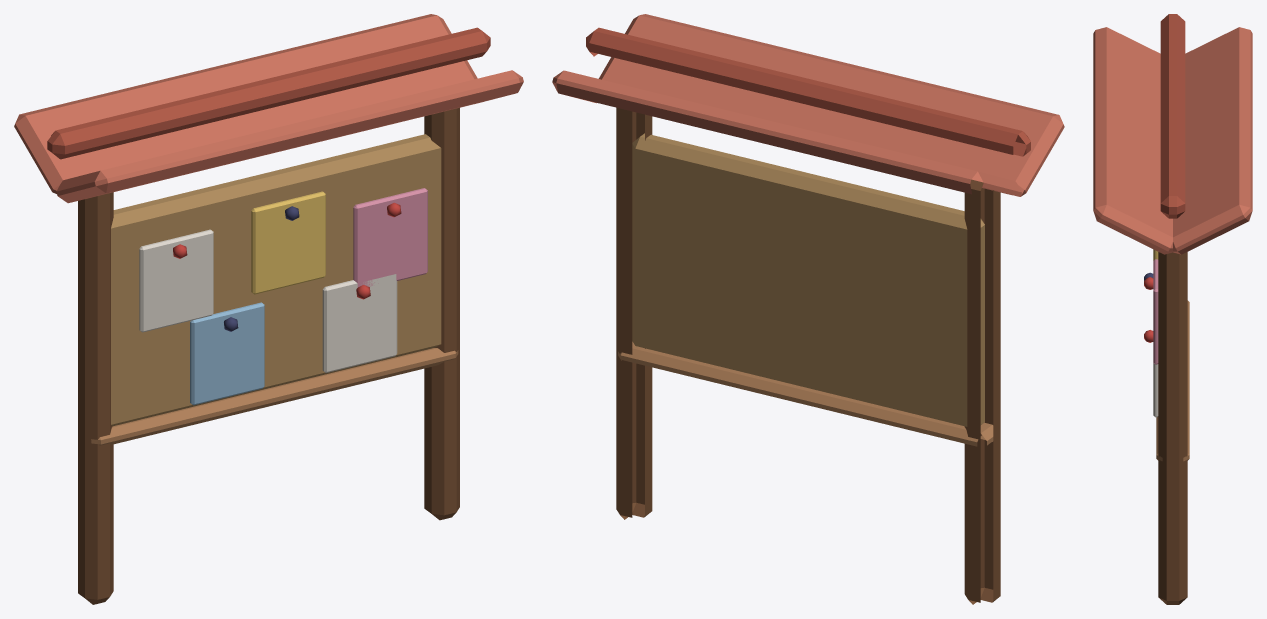
The model's file is ac_noticeboard.glb.
The picture shows the model from 3 angles, left to right: view 1: azimuth 30°, elevation 25°; view 2: azimuth 150°, elevation 25°; view 3: azimuth 270°, elevation 25°; orthographic projection. The views are drawn at different scales.
Visible parts, largest first — view 1: box; view 2: box; view 3: box.
Boxes of the visible parts, x1,y1,x2,y2 form: box: [14, 14, 523, 604]; box: [552, 14, 1064, 604]; box: [1093, 14, 1252, 604].
Size of the model in its own units: 2.15 by 2.24 by 0.7646.
